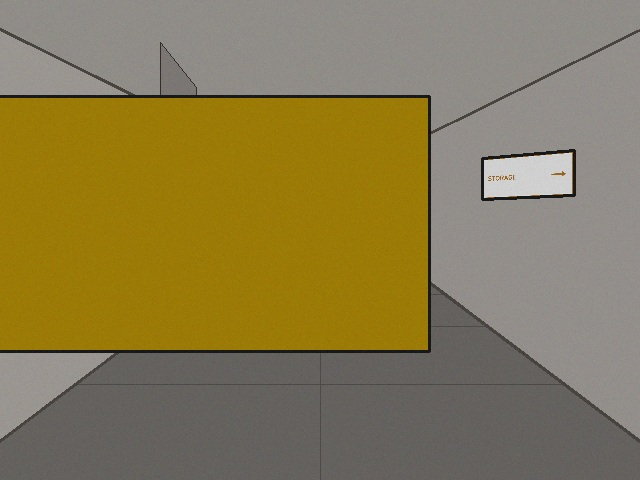directional_sign: (482, 150, 574, 199)
forklift: (0, 0, 429, 351)
